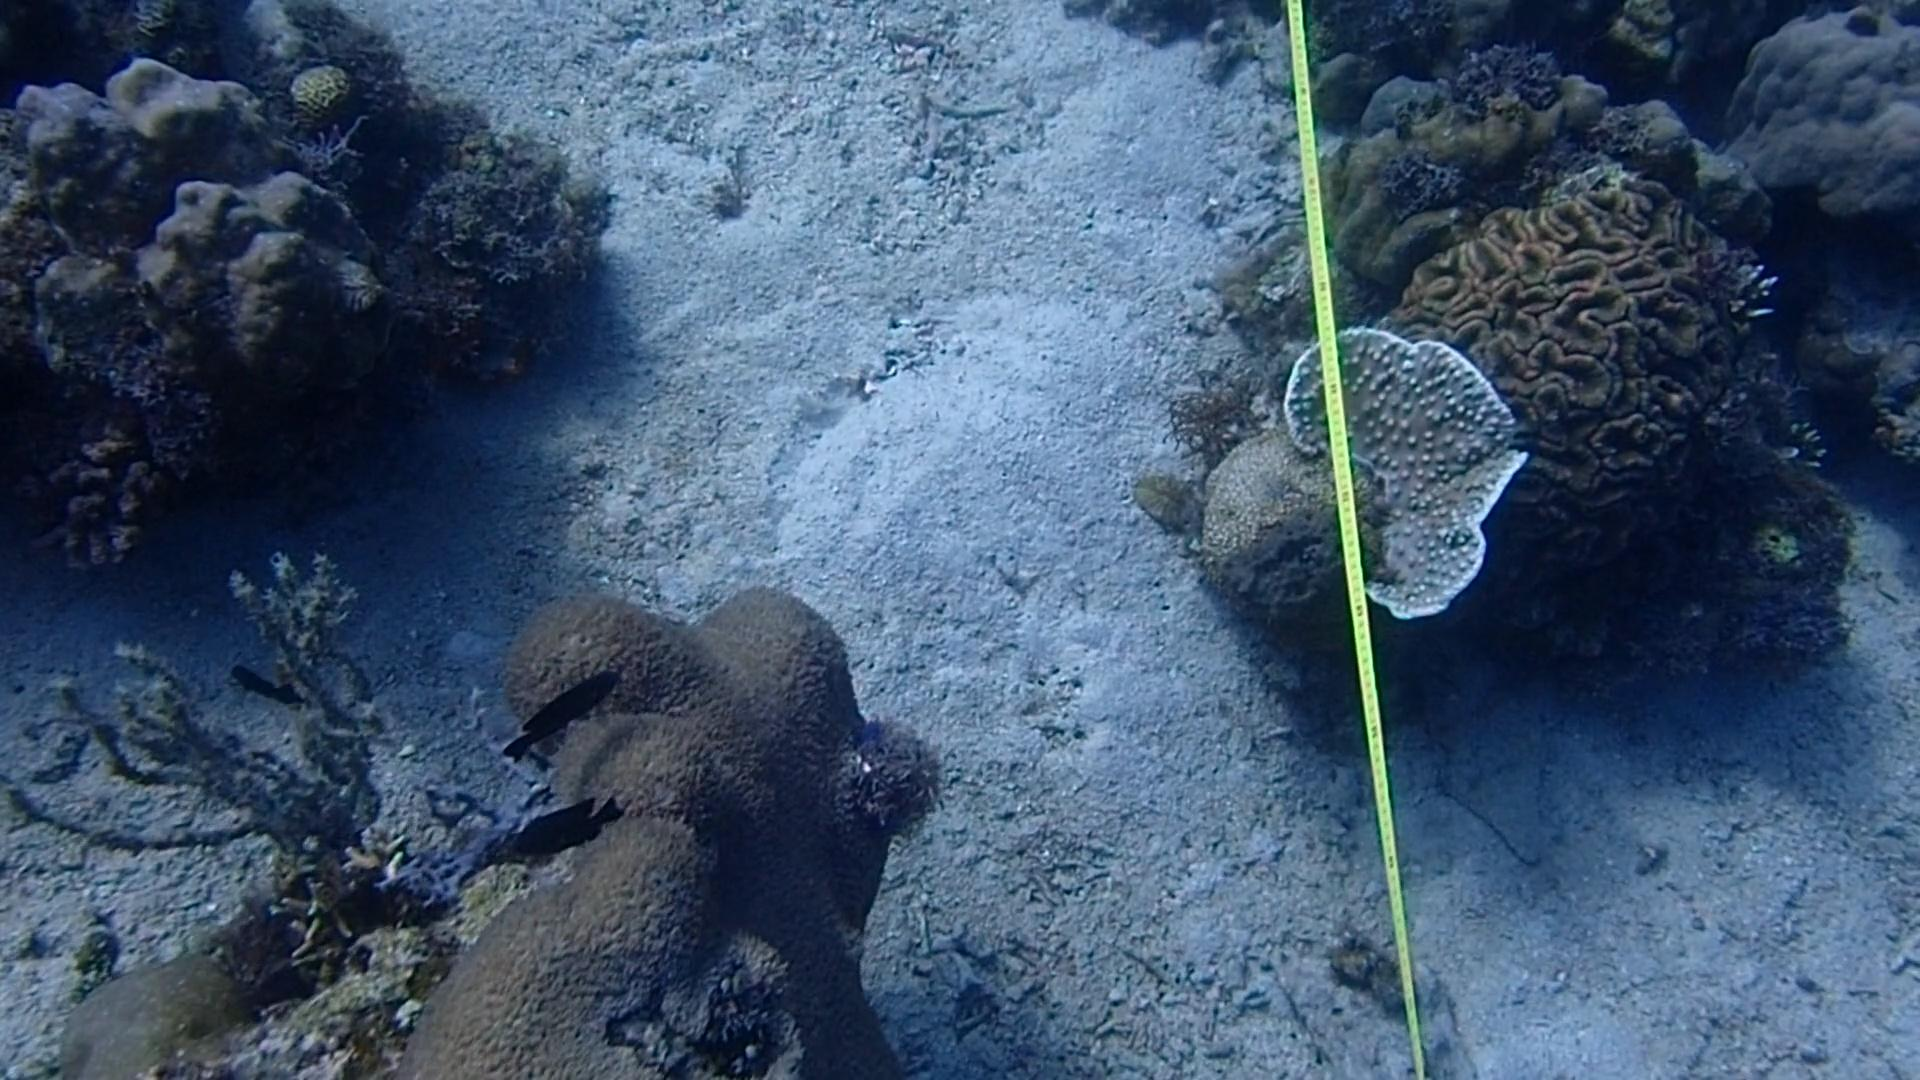Dark Fish: (483, 779, 632, 878), (498, 662, 601, 758), (220, 654, 322, 732)
